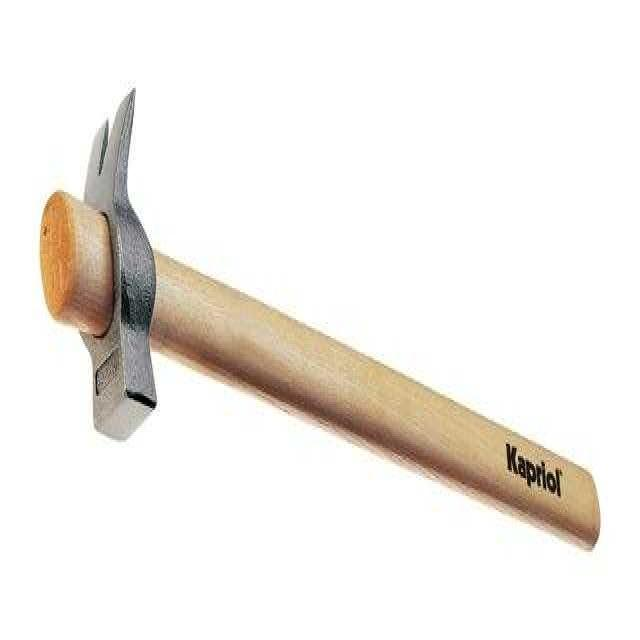hammer: (36, 62, 608, 620)
